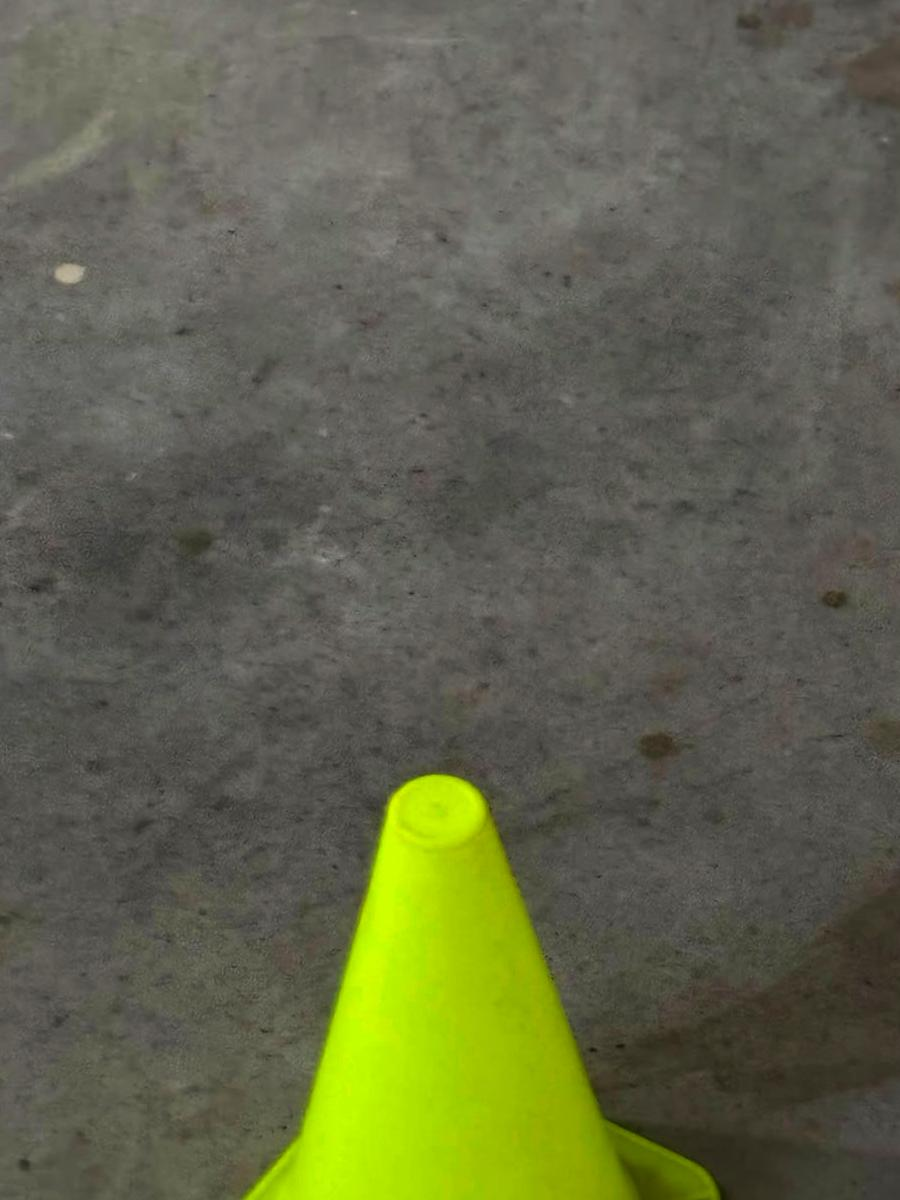0 cone: (244, 775, 720, 1200)
